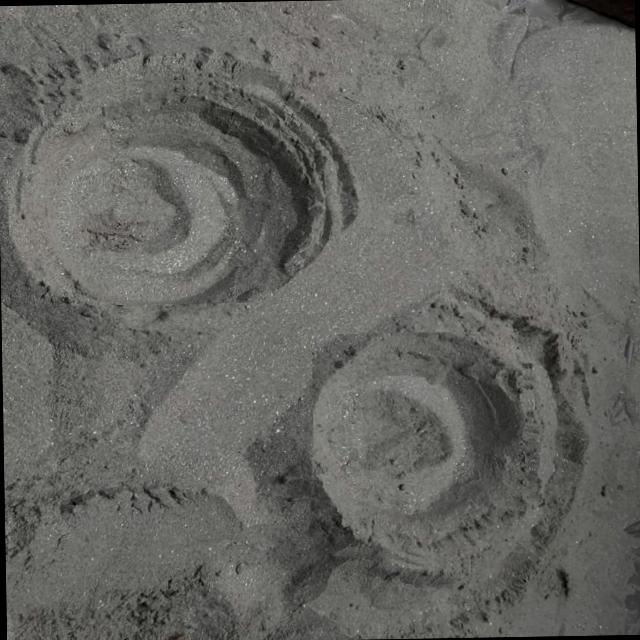C20: (7, 73, 330, 305), (312, 332, 530, 563)
